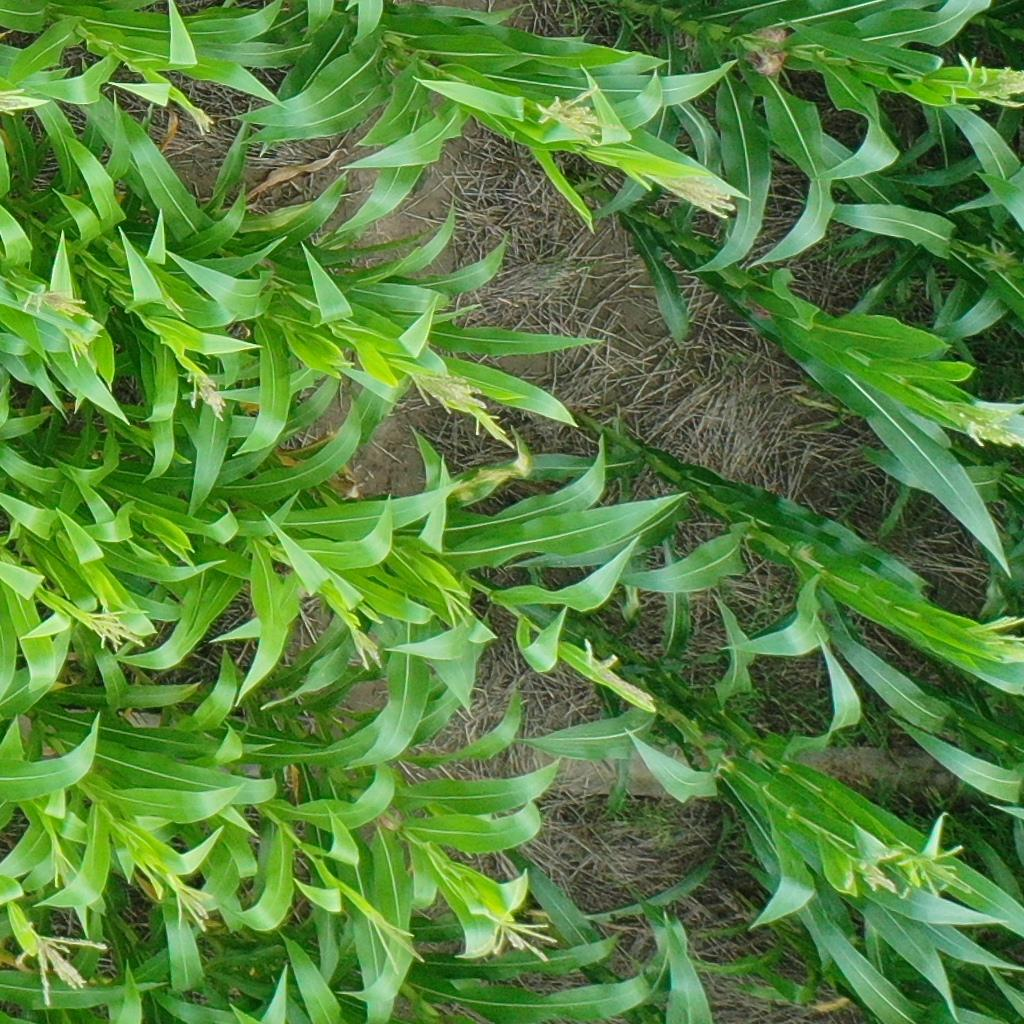Tassel: (410, 357, 510, 447), (14, 924, 111, 1006), (458, 899, 557, 963), (530, 82, 622, 148), (577, 635, 661, 706), (649, 166, 741, 222), (898, 837, 975, 902), (839, 844, 901, 901), (953, 405, 1024, 454), (369, 911, 424, 974), (338, 605, 386, 676), (86, 603, 149, 657), (972, 50, 1024, 114), (167, 866, 213, 932), (19, 284, 95, 323), (184, 365, 231, 423), (961, 611, 1024, 653), (62, 324, 110, 372), (45, 837, 81, 890), (440, 586, 477, 634), (181, 97, 223, 139), (1, 87, 39, 124)
